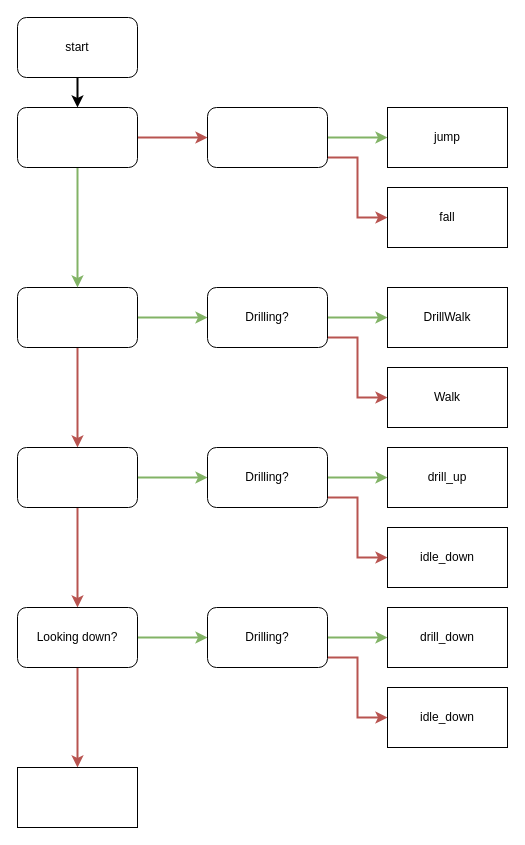
This 525x845 diagram has some shape labels left out. Here are the shapes that lost their labels. From the top down, the centre of each, then its label:
At (77,137): "grounded?".
At (267,137): "gaining altitude?".
At (77,317): "Moving?".
At (77,477): "Looking up?".
At (77,797): "idle".
